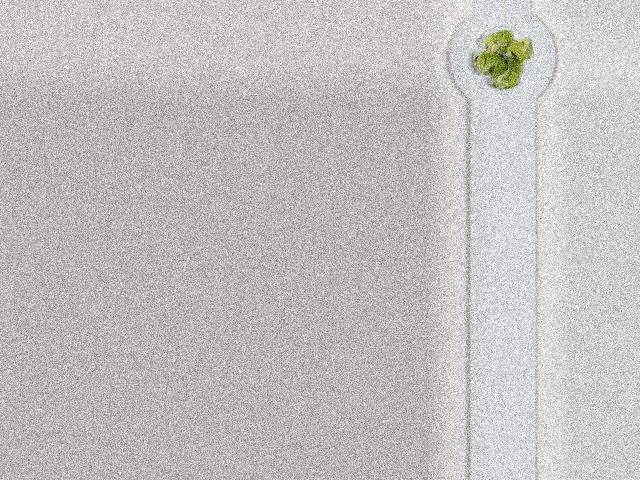lettuce: (472, 31, 532, 95)
